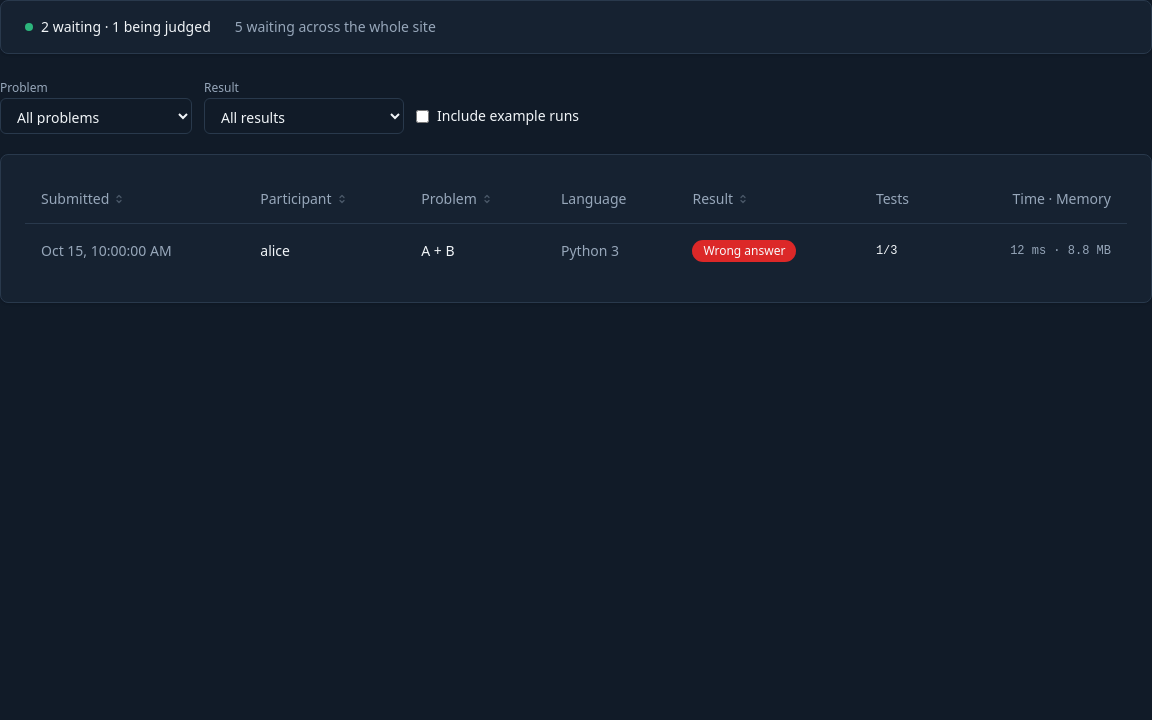
JudgingConsole › can't rejudge while one is already waiting
Step 1. Click the text "alice" → point(275, 250), box 244,224 -> 405,278
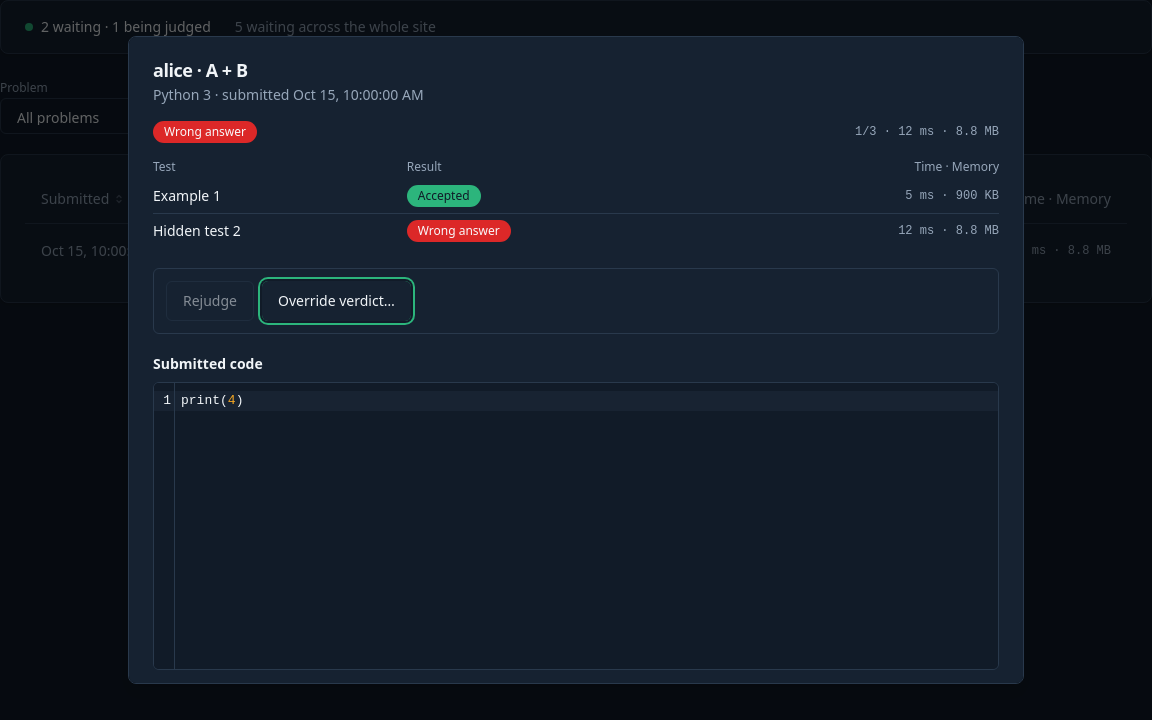
Result: the button "Rejudge" is disabled at 166,281 -> 254,321
